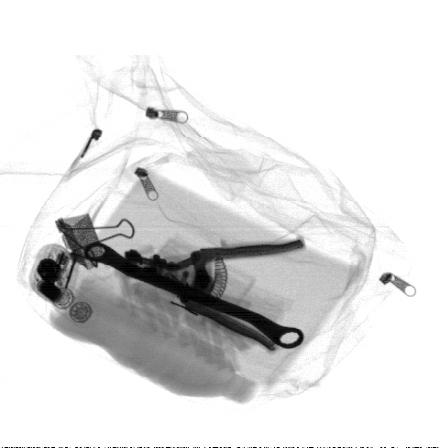Pliers: (121, 237, 305, 354)
Wrench: (82, 241, 305, 349)
